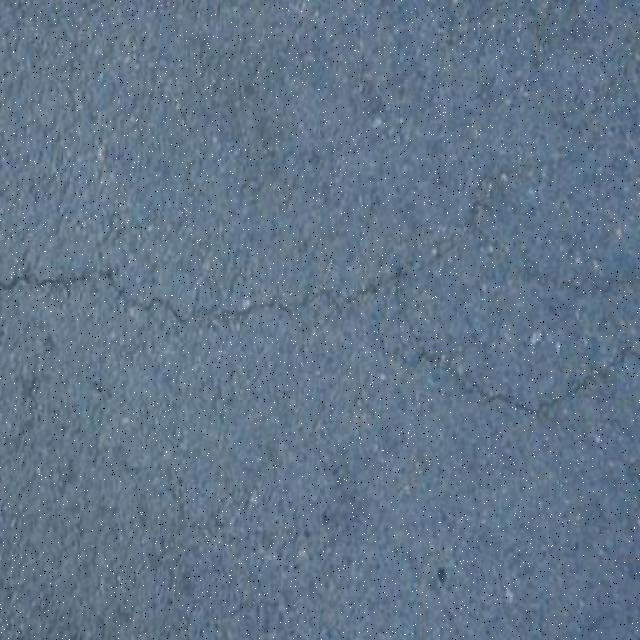Crack: (0, 56, 639, 418), (451, 4, 539, 53)
